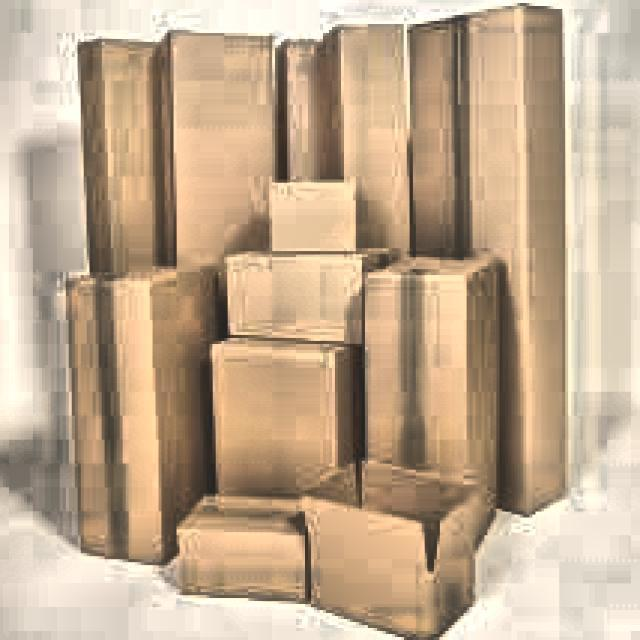cardboard: (66, 0, 568, 640)
